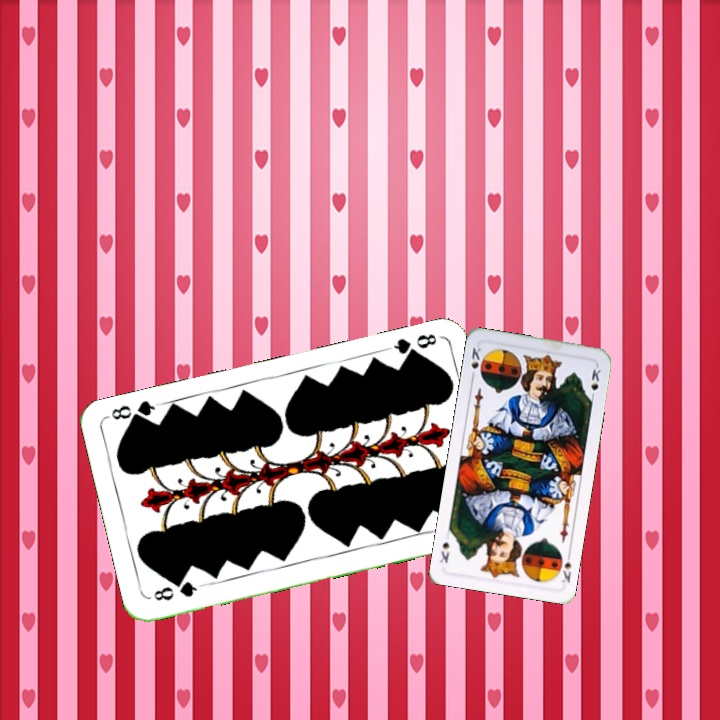G8: (385, 329, 440, 362), (149, 577, 205, 603)
SK: (467, 342, 483, 382), (557, 548, 574, 585)
